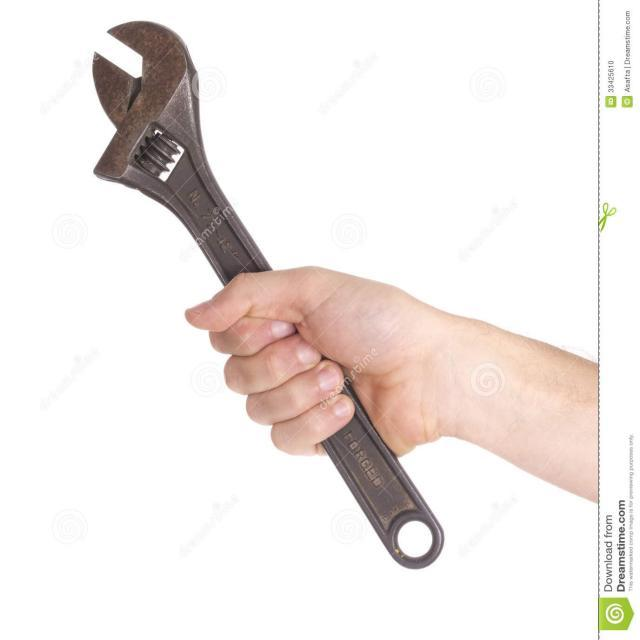wrench: (88, 17, 446, 574)
